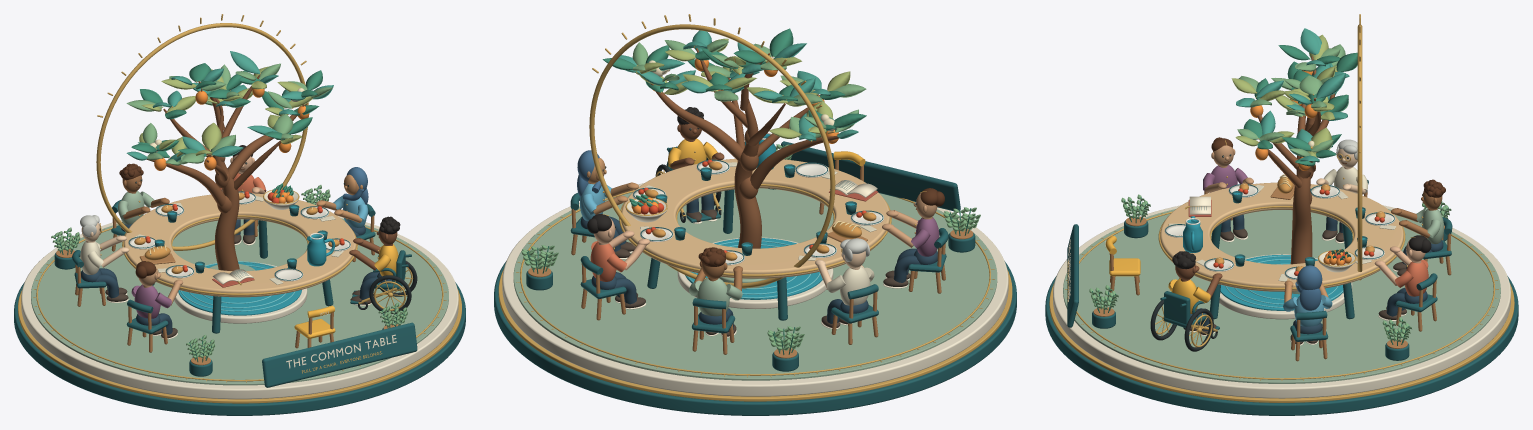
File: the-common-table.glb
3 views of the same model, side by side, from view 1: azimuth 30°, elevation 25°; view 2: azimuth 150°, elevation 25°; view 3: azimuth 270°, elevation 25° (orthographic). The views are drawn at different scales.
Visible parts, largest first — view 1: Garden terrazzo, Petrol enamel, Porcelain | warm chalk, Brushed champagne brass, Table | pale maple, Tree | burnished terracotta, Leaf | sage, Leaf | jade, Water | blue ceramic, Leaf | sea green, Leaf | olive, Honey oak (+18 smaller); view 2: Garden terrazzo, Petrol enamel, Porcelain | warm chalk, Brushed champagne brass, Table | pale maple, Tree | burnished terracotta, Leaf | sage, Leaf | jade, Leaf | sea green, Honey oak, Leaf | olive, Cloth | navy (+23 smaller); view 3: Garden terrazzo, Petrol enamel, Porcelain | warm chalk, Table | pale maple, Brushed champagne brass, Leaf | sage, Tree | burnished terracotta, Leaf | jade, Leaf | sea green, Water | blue ceramic, Honey oak, Leaf | olive (+21 smaller).
Boxes of the visible parts, bbox=[...] form: Garden terrazzo: bbox=[31, 218, 448, 385]; Petrol enamel: bbox=[14, 191, 465, 415]; Porcelain | warm chalk: bbox=[21, 190, 458, 399]; Brushed champagne brass: bbox=[18, 14, 461, 403]; Table | pale maple: bbox=[123, 193, 356, 297]; Tree | burnished terracotta: bbox=[146, 75, 307, 270]; Leaf | sage: bbox=[51, 63, 407, 358]; Leaf | jade: bbox=[54, 63, 404, 362]; Water | blue ceramic: bbox=[156, 206, 335, 315]; Leaf | sea green: bbox=[126, 51, 333, 161]; Leaf | olive: bbox=[139, 66, 313, 156]; Honey oak: bbox=[56, 213, 399, 365]; Garden terrazzo: bbox=[513, 188, 997, 380]; Petrol enamel: bbox=[494, 141, 1016, 415]; Porcelain | warm chalk: bbox=[502, 154, 1008, 396]; Brushed champagne brass: bbox=[498, 14, 1012, 401]; Table | pale maple: bbox=[621, 158, 889, 278]; Tree | burnished terracotta: bbox=[650, 48, 838, 248]; Leaf | sage: bbox=[521, 39, 980, 350]; Leaf | jade: bbox=[527, 28, 975, 354]; Leaf | sea green: bbox=[618, 30, 858, 141]; Honey oak: bbox=[528, 160, 973, 358]; Leaf | olive: bbox=[635, 38, 850, 138]; Cloth | navy: bbox=[580, 193, 937, 331]; Garden terrazzo: bbox=[1063, 209, 1500, 383]; Petrol enamel: bbox=[1045, 178, 1518, 415]; Porcelain | warm chalk: bbox=[1053, 205, 1510, 398]; Table | pale maple: bbox=[1160, 182, 1403, 291]; Brushed champagne brass: bbox=[1049, 14, 1514, 402]; Leaf | sage: bbox=[1089, 44, 1451, 342]; Tree | burnished terracotta: bbox=[1257, 56, 1334, 264]; Leaf | jade: bbox=[1092, 45, 1448, 345]; Leaf | sea green: bbox=[1236, 28, 1349, 162]; Water | blue ceramic: bbox=[1183, 192, 1365, 310]; Honey oak: bbox=[1093, 184, 1451, 361]; Leaf | olive: bbox=[1231, 34, 1336, 157].
Bounding box in the file's own units: 9.4 × 6.35 × 9.4.
